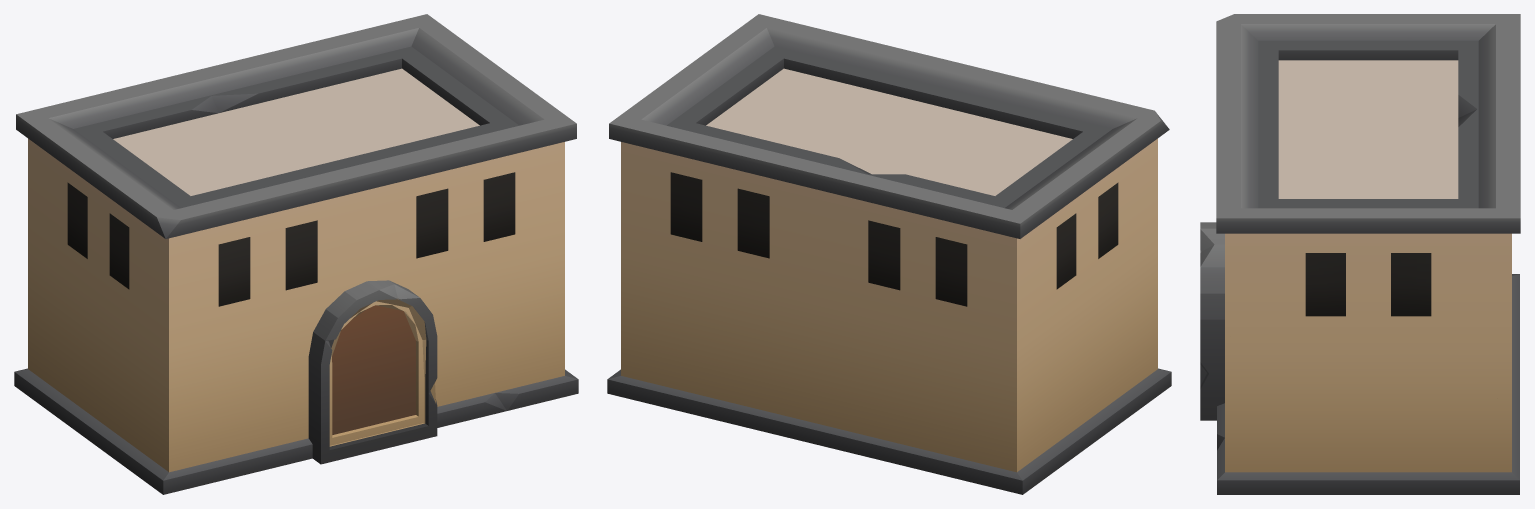
Rendered from Fort Room 01.fbx.
3 renders of one model, left to right at view 1: azimuth 30°, elevation 25°; view 2: azimuth 150°, elevation 25°; view 3: azimuth 270°, elevation 25°, orthographic.
Parts seen in each view (by area): view 1: Fort Room 01 high, Fort Room 01, Fort Room 01 low; view 2: Fort Room 01 high, Fort Room 01 low, Fort Room 01; view 3: Fort Room 01 high, Fort Room 01 low, Fort Room 01.
Part boxes in pixels (left/top/right/bottom): Fort Room 01 high: left=14, top=14, right=578, bottom=494; Fort Room 01: left=17, top=46, right=574, bottom=471; Fort Room 01 low: left=25, top=28, right=564, bottom=472; Fort Room 01 high: left=607, top=14, right=1171, bottom=494; Fort Room 01 low: left=621, top=24, right=1157, bottom=471; Fort Room 01: left=613, top=15, right=1160, bottom=479; Fort Room 01 high: left=1200, top=14, right=1520, bottom=494; Fort Room 01 low: left=1200, top=14, right=1511, bottom=472; Fort Room 01: left=1200, top=14, right=1519, bottom=479.
Size of the model in its own units: 10.61 by 6.61 by 6.97.
1 material, 1 textured.
